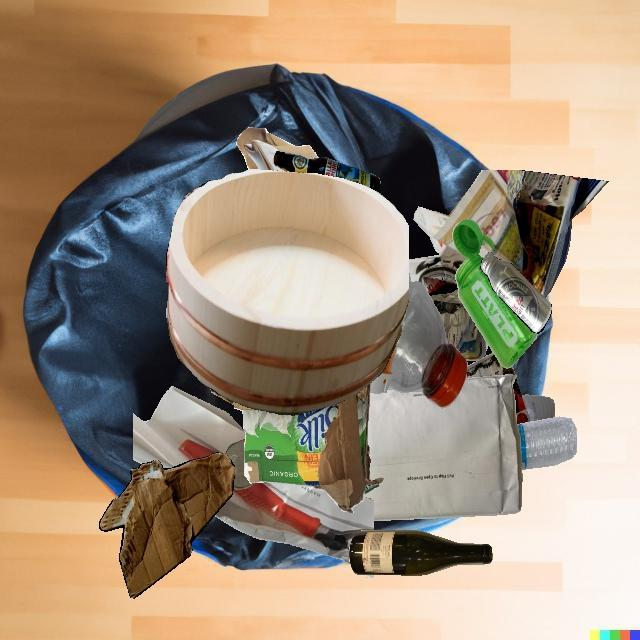cardboard: (99, 453, 235, 599), (234, 382, 384, 513), (236, 127, 319, 171)
combustible waste: (166, 169, 409, 415)
glass: (349, 530, 492, 575), (273, 151, 380, 193), (224, 439, 255, 490), (210, 388, 234, 405)
metal: (480, 252, 551, 334)
paper: (409, 170, 608, 298), (365, 374, 522, 521), (246, 482, 374, 561), (150, 386, 246, 457), (430, 289, 486, 360), (466, 352, 515, 378), (521, 394, 555, 422), (512, 377, 531, 424)
plastic: (452, 219, 537, 368), (388, 273, 467, 408), (517, 417, 577, 469), (370, 342, 397, 393), (355, 168, 356, 168)
